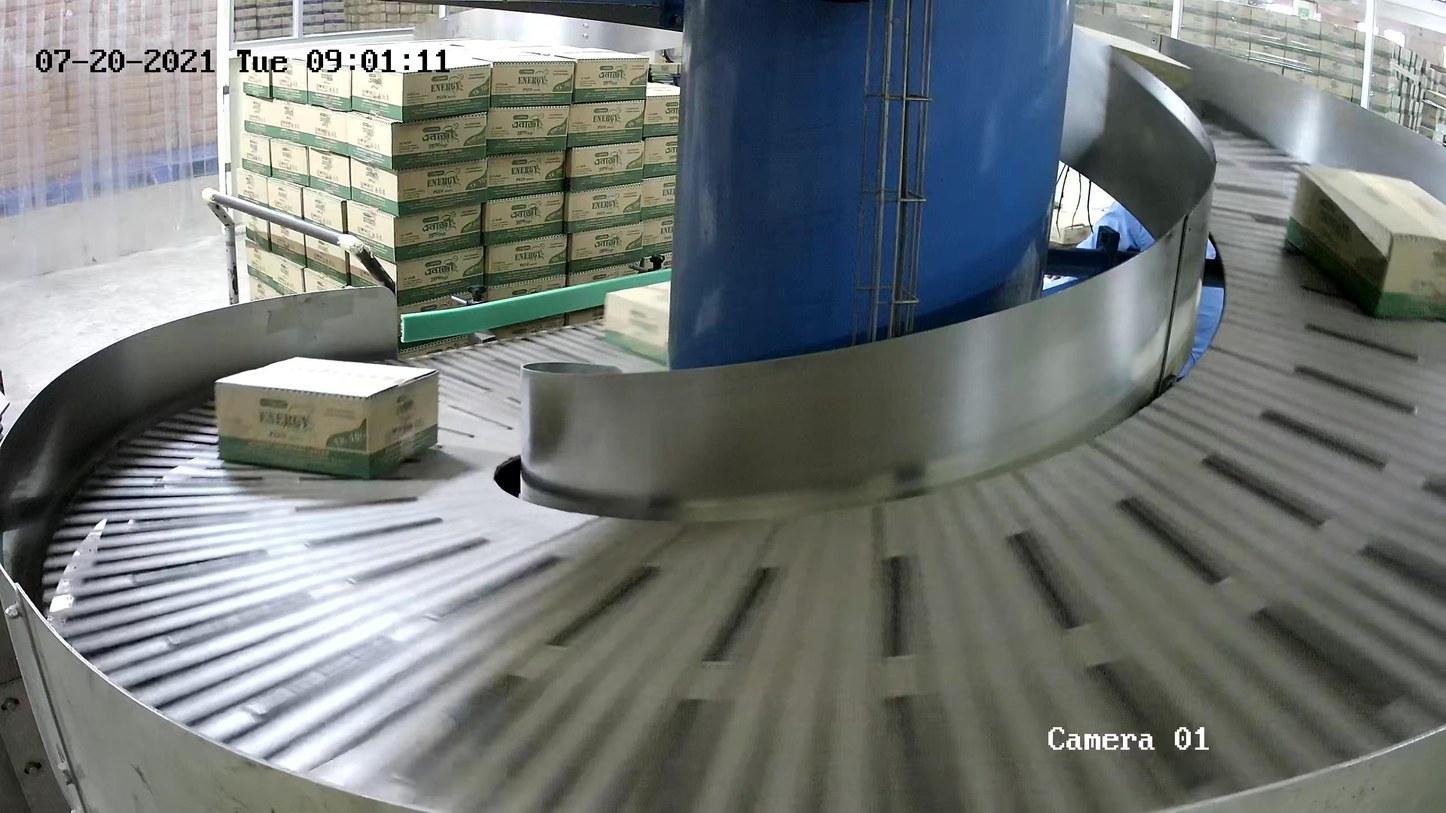Box: (215, 356, 440, 482), (1284, 165, 1446, 327)
